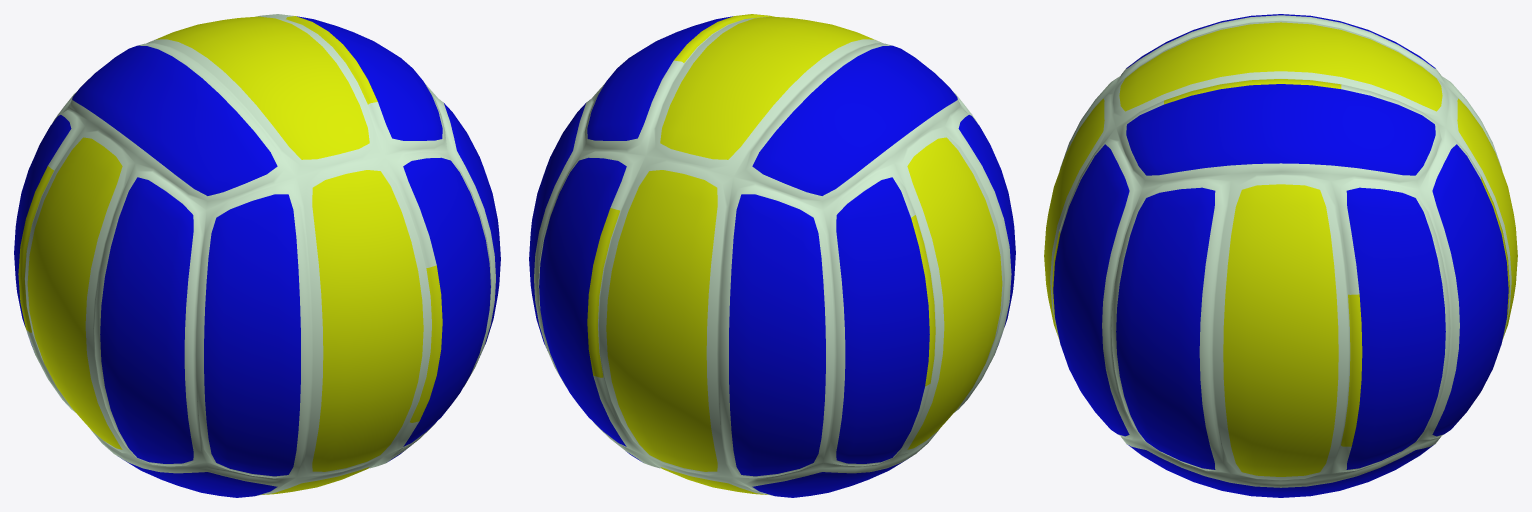
Rendered from voleyboltopublueyellowkırılmayan.fbx.
3 renders of one model, left to right at view 1: azimuth 30°, elevation 25°; view 2: azimuth 150°, elevation 25°; view 3: azimuth 270°, elevation 25°, orthographic.
Visible parts, largest first — view 1: Cube; view 2: Cube; view 3: Cube.
Boxes of the visible parts, x1,y1,x2,y2 form: Cube: [14, 14, 500, 497]; Cube: [529, 14, 1015, 497]; Cube: [1044, 14, 1517, 497].
Size of the model in its own units: 68.79 by 68.79 by 68.79.
